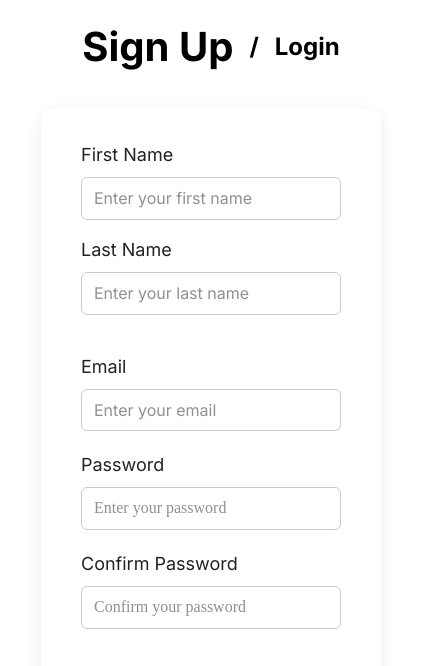
Login Component › shows validation error when email is empty on login
Click the button "Login".
click(307, 47)  # box [275,29,340,65]
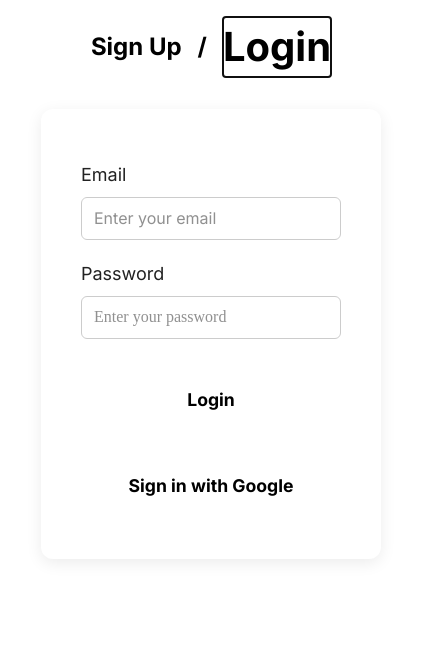
Click the button "Login" below "Password".
click(211, 400)  # box [81,375,341,425]
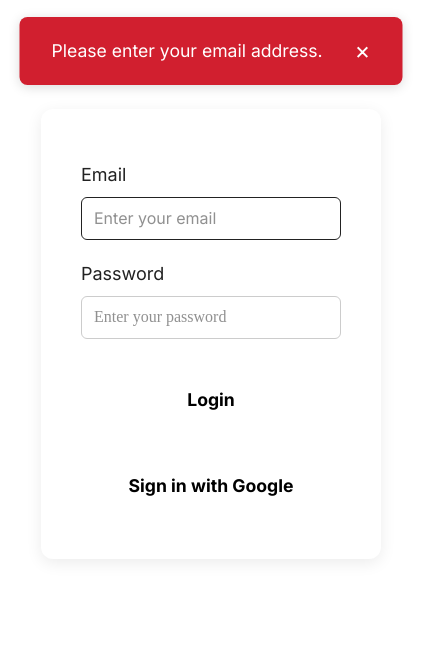
Expected: the text "Please enter your email address." is shown, [52,38,323,64]
